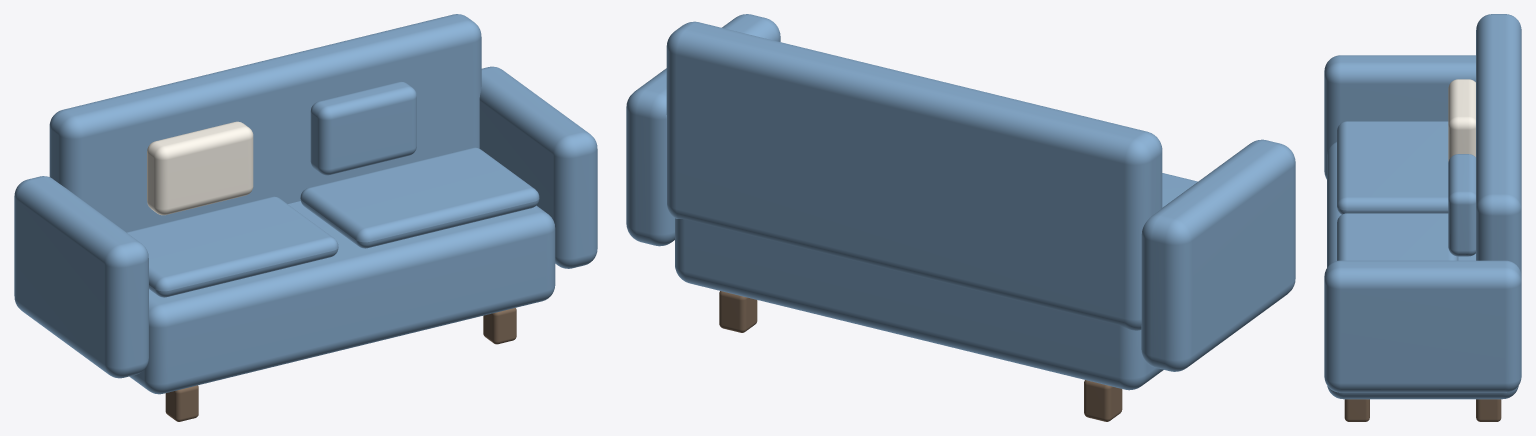
Rendered from 目标海蓝小沙发.fbx.
3 renders of one model, left to right at view 1: azimuth 30°, elevation 25°; view 2: azimuth 150°, elevation 25°; view 3: azimuth 270°, elevation 25°, orthographic. The views are drawn at different scales.
Visible parts, largest first — view 1: 目标海蓝小沙发_靠背, 目标海蓝小沙发_底座, 目标海蓝小沙发_左扶手, 目标海蓝小沙发_坐垫分缝.001, 目标海蓝小沙发_右扶手, 目标海蓝小沙发_坐垫分缝, 目标海蓝小沙发_米白抱枕, 目标海蓝小沙发_浅蓝抱枕, 目标海蓝小沙发_短脚.002, 目标海蓝小沙发_短脚; view 2: 目标海蓝小沙发_靠背, 目标海蓝小沙发_底座, 目标海蓝小沙发_左扶手, 目标海蓝小沙发_右扶手, 目标海蓝小沙发_短脚.003, 目标海蓝小沙发_短脚.001, 目标海蓝小沙发_坐垫分缝; view 3: 目标海蓝小沙发_右扶手, 目标海蓝小沙发_靠背, 目标海蓝小沙发_坐垫分缝, 目标海蓝小沙发_左扶手, 目标海蓝小沙发_坐垫分缝.001, 目标海蓝小沙发_浅蓝抱枕, 目标海蓝小沙发_底座, 目标海蓝小沙发_米白抱枕, 目标海蓝小沙发_短脚.002, 目标海蓝小沙发_短脚.003.
Boxes of the visible parts, box(x1,y1,x2,y2) form: 目标海蓝小沙发_靠背: box(49, 14, 481, 232); 目标海蓝小沙发_底座: box(129, 201, 555, 394); 目标海蓝小沙发_左扶手: box(14, 176, 148, 378); 目标海蓝小沙发_坐垫分缝.001: box(300, 147, 539, 248); 目标海蓝小沙发_右扶手: box(479, 66, 597, 268); 目标海蓝小沙发_坐垫分缝: box(126, 196, 338, 297); 目标海蓝小沙发_米白抱枕: box(147, 121, 253, 215); 目标海蓝小沙发_浅蓝抱枕: box(310, 81, 416, 175); 目标海蓝小沙发_短脚.002: box(483, 308, 516, 344); 目标海蓝小沙发_短脚: box(165, 385, 198, 421); 目标海蓝小沙发_靠背: box(666, 21, 1162, 330); 目标海蓝小沙发_底座: box(675, 218, 1163, 390); 目标海蓝小沙发_左扶手: box(1141, 139, 1295, 371); 目标海蓝小沙发_右扶手: box(626, 14, 780, 246); 目标海蓝小沙发_短脚.003: box(719, 291, 757, 332); 目标海蓝小沙发_短脚.001: box(1084, 380, 1122, 421); 目标海蓝小沙发_坐垫分缝: box(1162, 173, 1197, 207); 目标海蓝小沙发_右扶手: box(1324, 260, 1521, 392); 目标海蓝小沙发_靠背: box(1476, 14, 1521, 275); 目标海蓝小沙发_坐垫分缝: box(1337, 121, 1448, 214); 目标海蓝小沙发_左扶手: box(1324, 55, 1475, 179); 目标海蓝小沙发_坐垫分缝.001: box(1337, 213, 1458, 260); 目标海蓝小沙发_浅蓝抱枕: box(1448, 154, 1475, 256); 目标海蓝小沙发_底座: box(1327, 142, 1518, 399); 目标海蓝小沙发_米白抱枕: box(1448, 79, 1475, 161); 目标海蓝小沙发_短脚.002: box(1344, 399, 1369, 421); 目标海蓝小沙发_短脚.003: box(1476, 399, 1501, 421).
Size of the model in its own units: 210 by 105 by 78.
